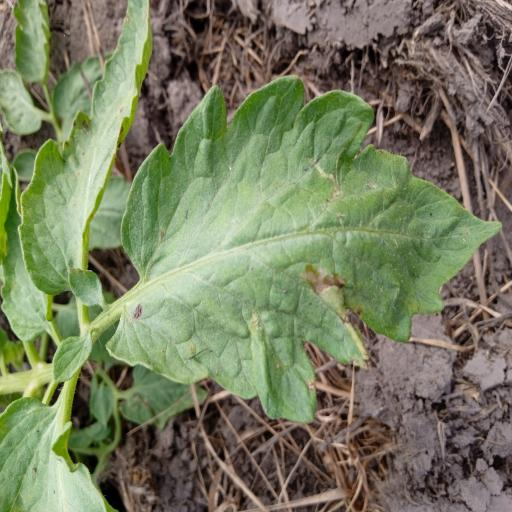Tomato_Mildiou: (107, 66, 502, 438)
